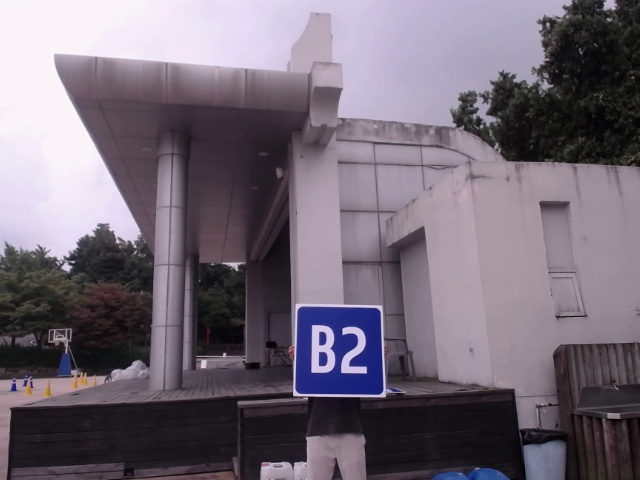delivery_b2: (296, 302, 387, 399)
